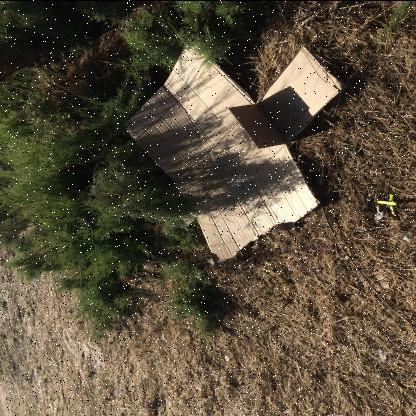cardboard: (126, 40, 348, 264)
plastic: (377, 193, 397, 215)
